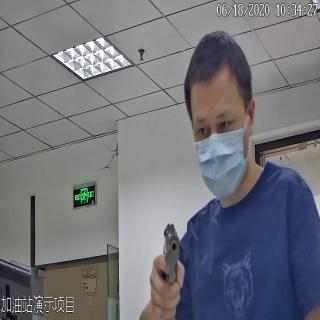gun: (155, 222, 185, 304)
